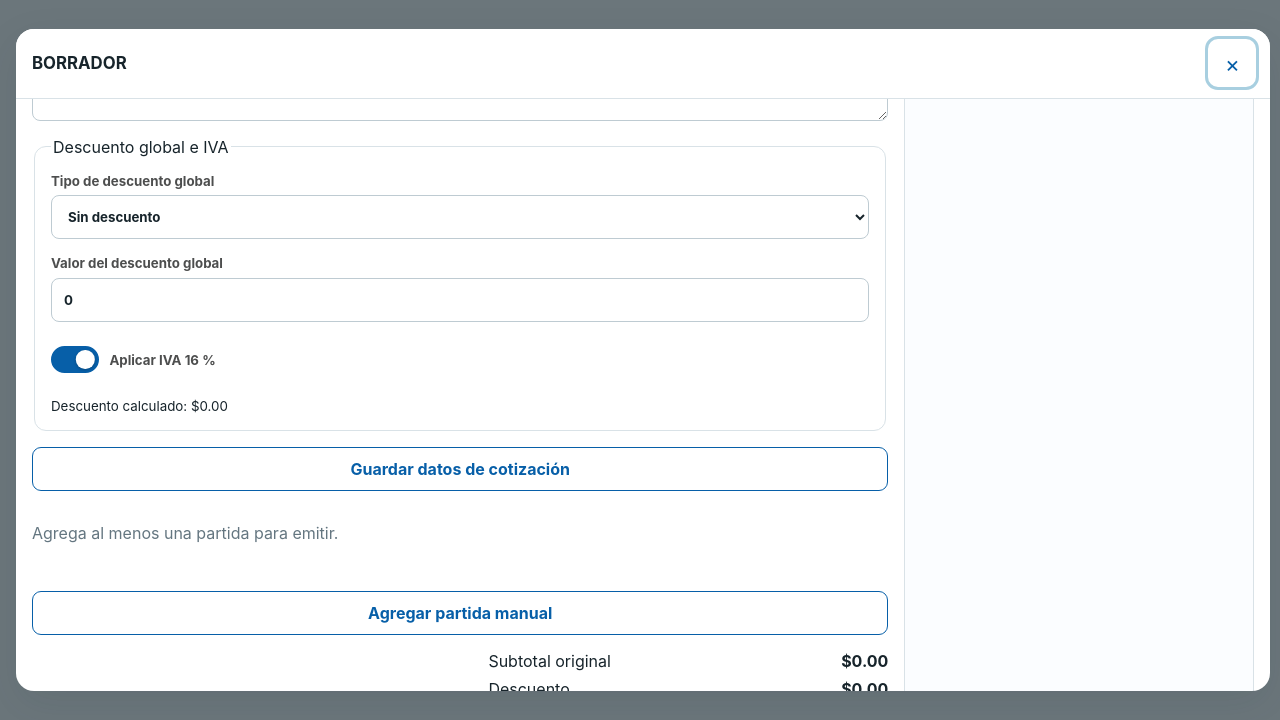
Test: quote editor phase two interactions › renders an accessible IVA switch and toggles it without duplicating the field
(page scrolled)
Click the switch labelled "Aplicar IVA 16 %" at {"x": 133, "y": 360}, box x1=51 y1=346 x2=216 y2=373
(page scrolled)
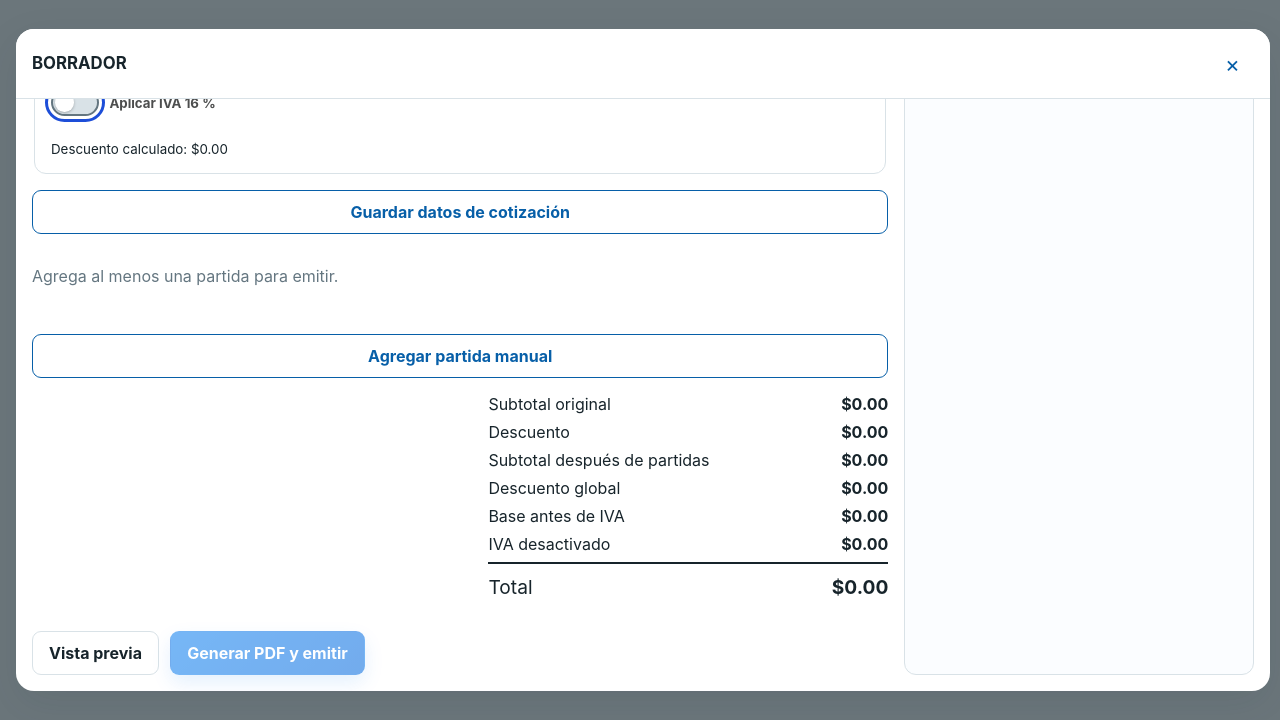
Now the switch labelled "Aplicar IVA 16 %" is not checked, box x1=51 y1=89 x2=216 y2=116
Now the text "IVA desactivado" is shown, box x1=488 y1=534 x2=610 y2=554
